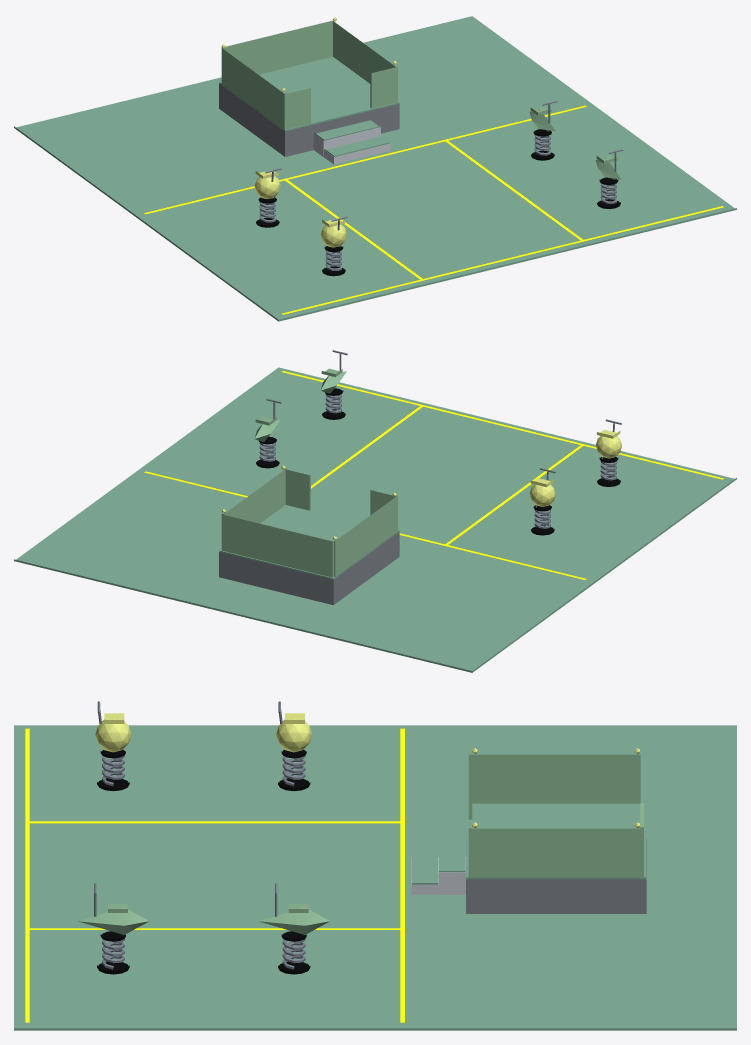
3 views of the same model, one above another, from view 1: azimuth 30°, elevation 25°; view 2: azimuth 150°, elevation 25°; view 3: azimuth 270°, elevation 25° (orthographic). The views are drawn at different scales.
Visible parts, largest first — view 1: Safety_Pad, Deck_Guards, Deck_Top, Toddler_Deck, Court_Line, Deck_Steps, Step_Treads; view 2: Safety_Pad, Deck_Guards, Toddler_Deck, Court_Line, Deck_Top; view 3: Safety_Pad, Deck_Guards, Toddler_Deck, Deck_Top, Court_Line, Step_Treads, Deck_Steps, Rider2_Body, Rider4_Body, Rider1_Body, Rider3_Body.
Part boxes in pixels (box(x1,y1,x2,y2)): Safety_Pad: box(14, 16, 736, 321); Deck_Guards: box(221, 20, 397, 129); Deck_Top: box(219, 57, 399, 131); Toddler_Deck: box(219, 83, 399, 156); Court_Line: box(144, 105, 723, 314); Deck_Steps: box(313, 127, 390, 164); Step_Treads: box(314, 120, 389, 156); Safety_Pad: box(14, 367, 736, 672); Deck_Guards: box(221, 468, 397, 577); Toddler_Deck: box(219, 531, 399, 604); Court_Line: box(144, 371, 723, 579); Deck_Top: box(219, 505, 399, 579); Safety_Pad: box(14, 725, 736, 1030); Deck_Guards: box(468, 754, 643, 877); Toddler_Deck: box(466, 837, 646, 913); Deck_Top: box(466, 803, 645, 879); Court_Line: box(25, 728, 404, 1022); Step_Treads: box(412, 835, 465, 884); Deck_Steps: box(411, 857, 466, 894); Rider2_Body: box(258, 907, 329, 934); Rider4_Body: box(77, 907, 148, 934); Rider1_Body: box(276, 718, 311, 752); Rider3_Body: box(95, 718, 131, 752).
Size of what is drawn, in the model's own units: 8 by 1.12 by 8.
Materials: 9 (3 with a texture image).
